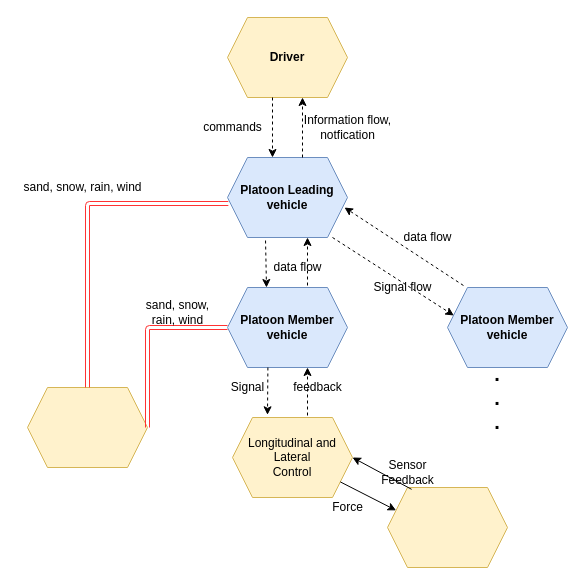
This 585x585 diagram has some shape labels left out. The centre of each missing label's shape, as x and y in pixels:
"Enviroment" goes at (x=87, y=427).
"Vehicle (mechanical)" goes at (x=447, y=527).
